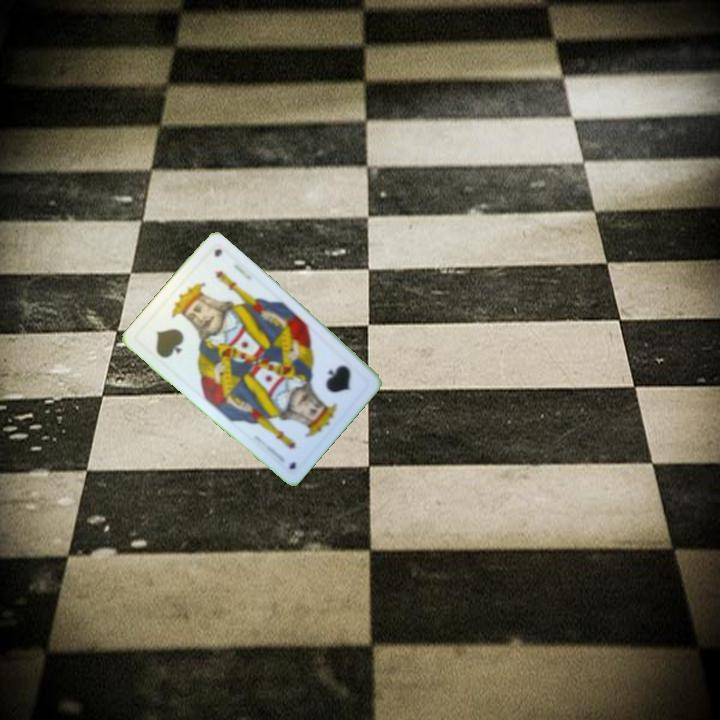s_k.png: (288, 342, 374, 428), (132, 289, 218, 375)
